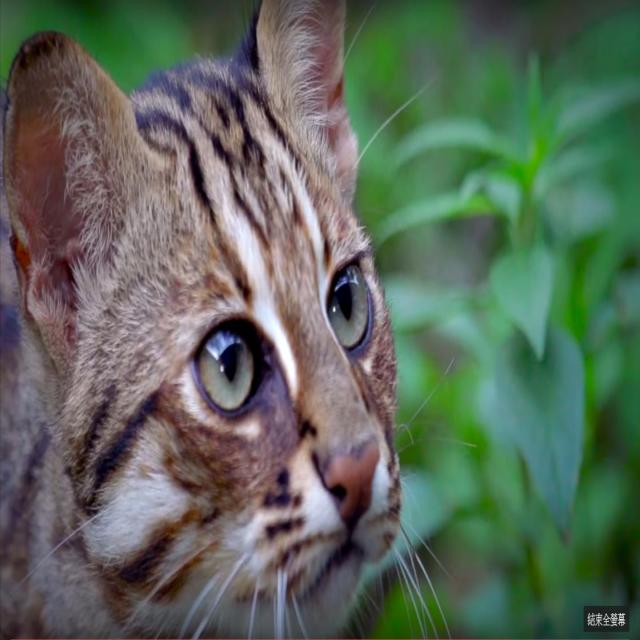leopard: (14, 22, 396, 614)
